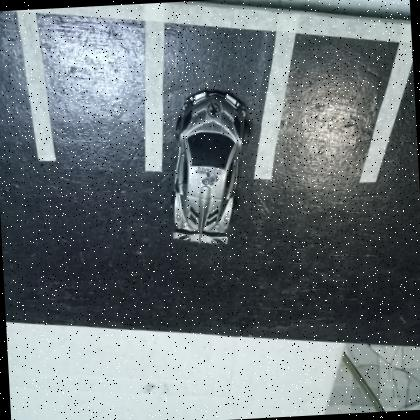Car: (162, 88, 258, 248)
